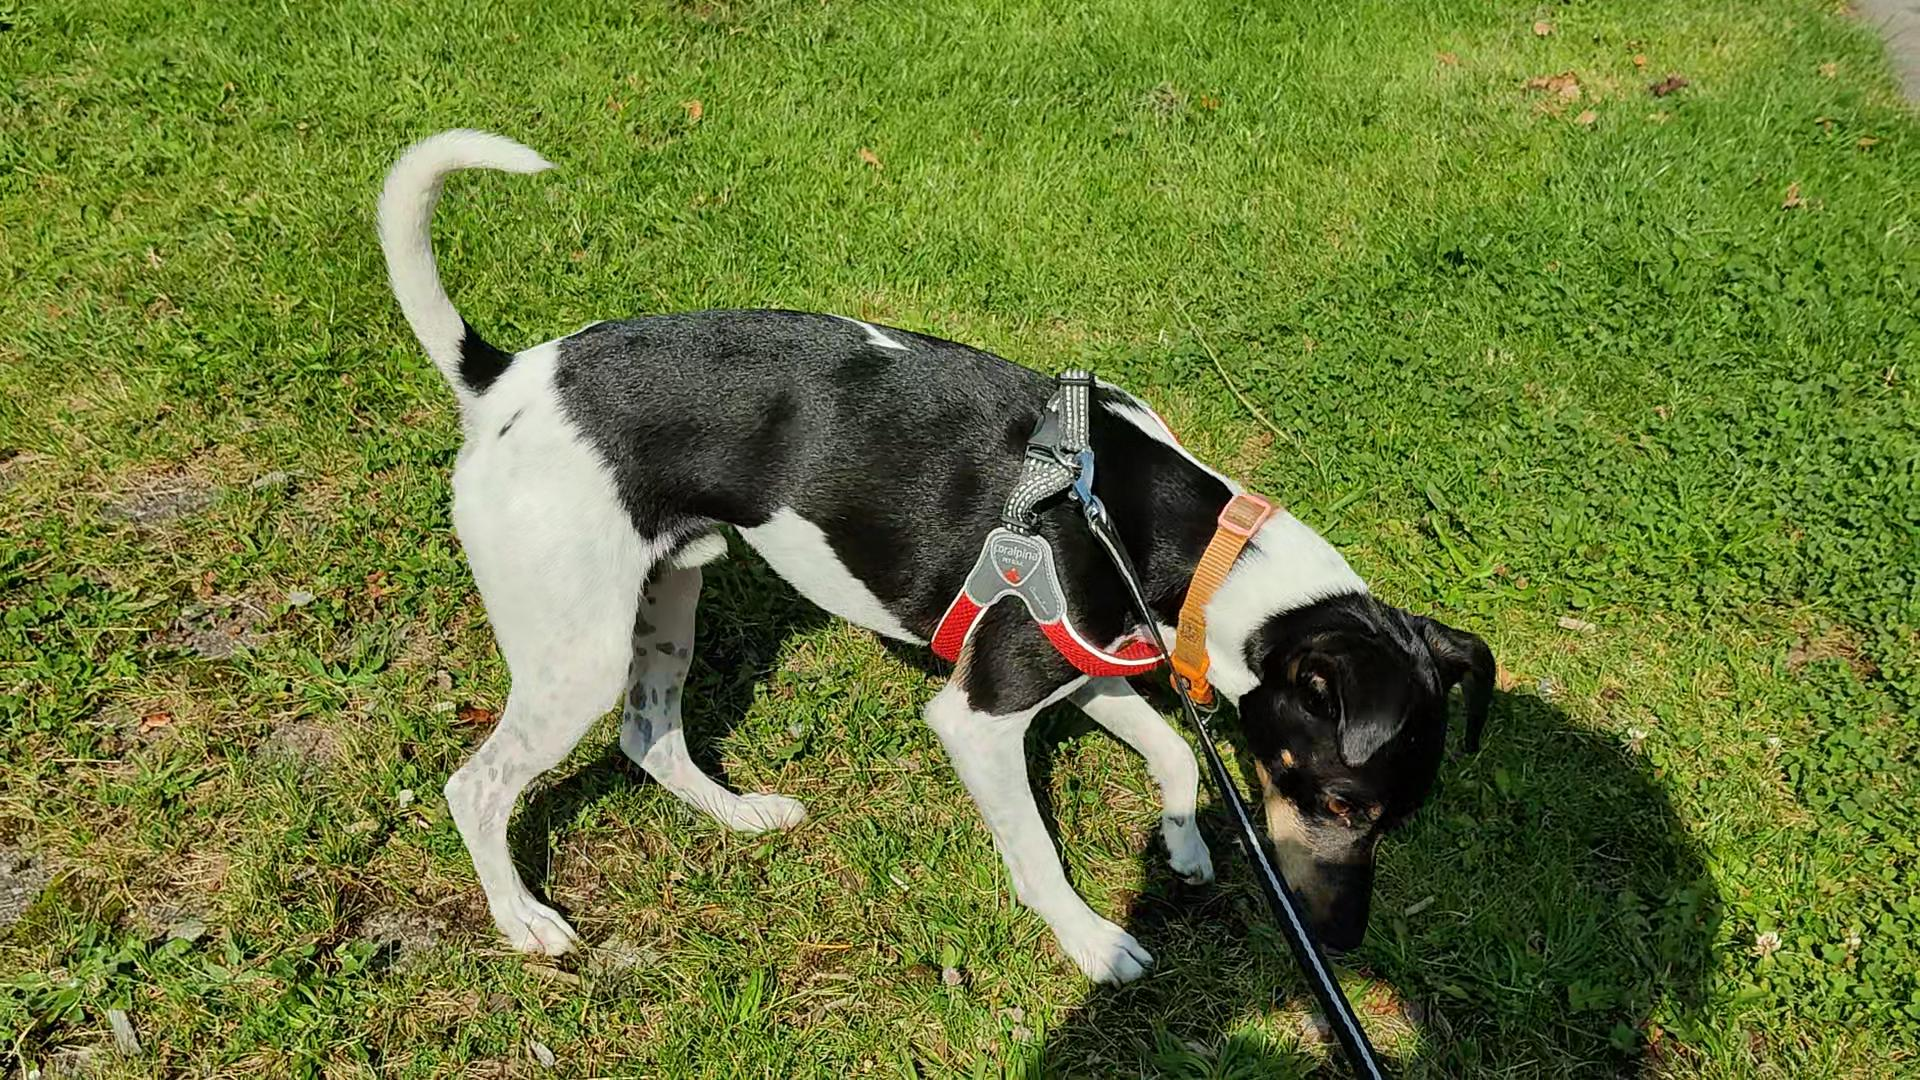Dog: (361, 109, 1498, 1000)
